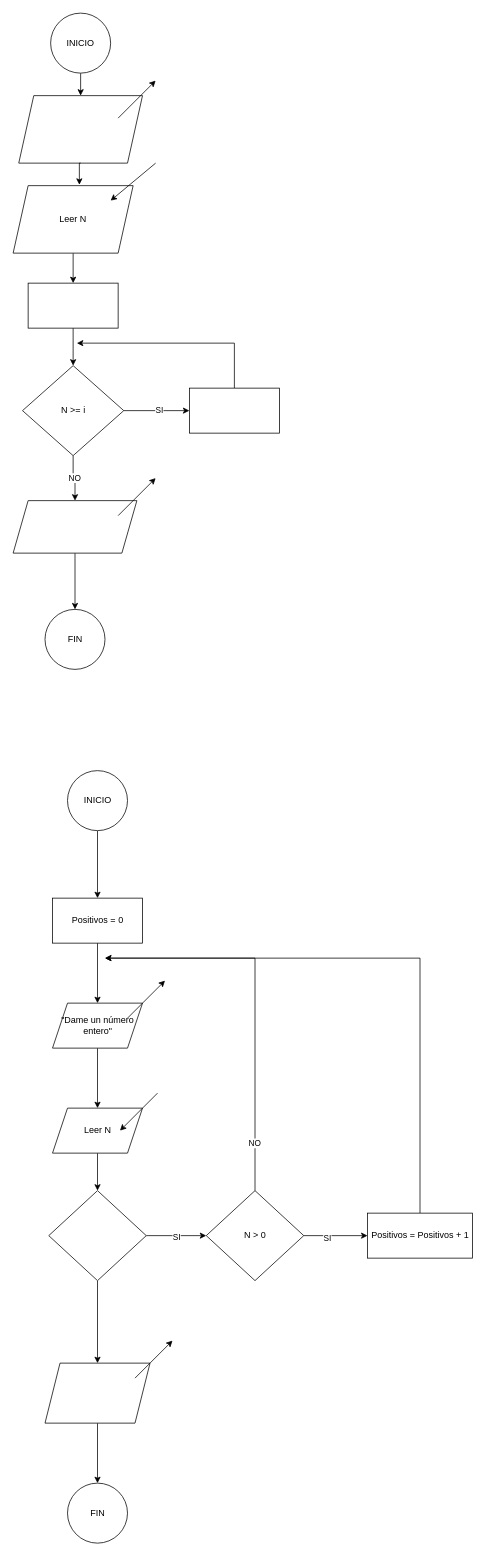
The diagram is 486 pixels wide and 1556 high, and some of its shapes have lost their labels. Here are the shapes that lost their labels. From the top down, the centre of each, then its label:
the point at 80,129: "Ingresa un número entero mayor o igual a 0"
the point at 72,305: S = 0 i = 0
the point at 234,410: S = S + i i = i + 1
the point at 74,526: "El resultado es: ", S
the point at 97,1235: N != 0
the point at 97,1392: "El total de positivos es: ", Positivos
